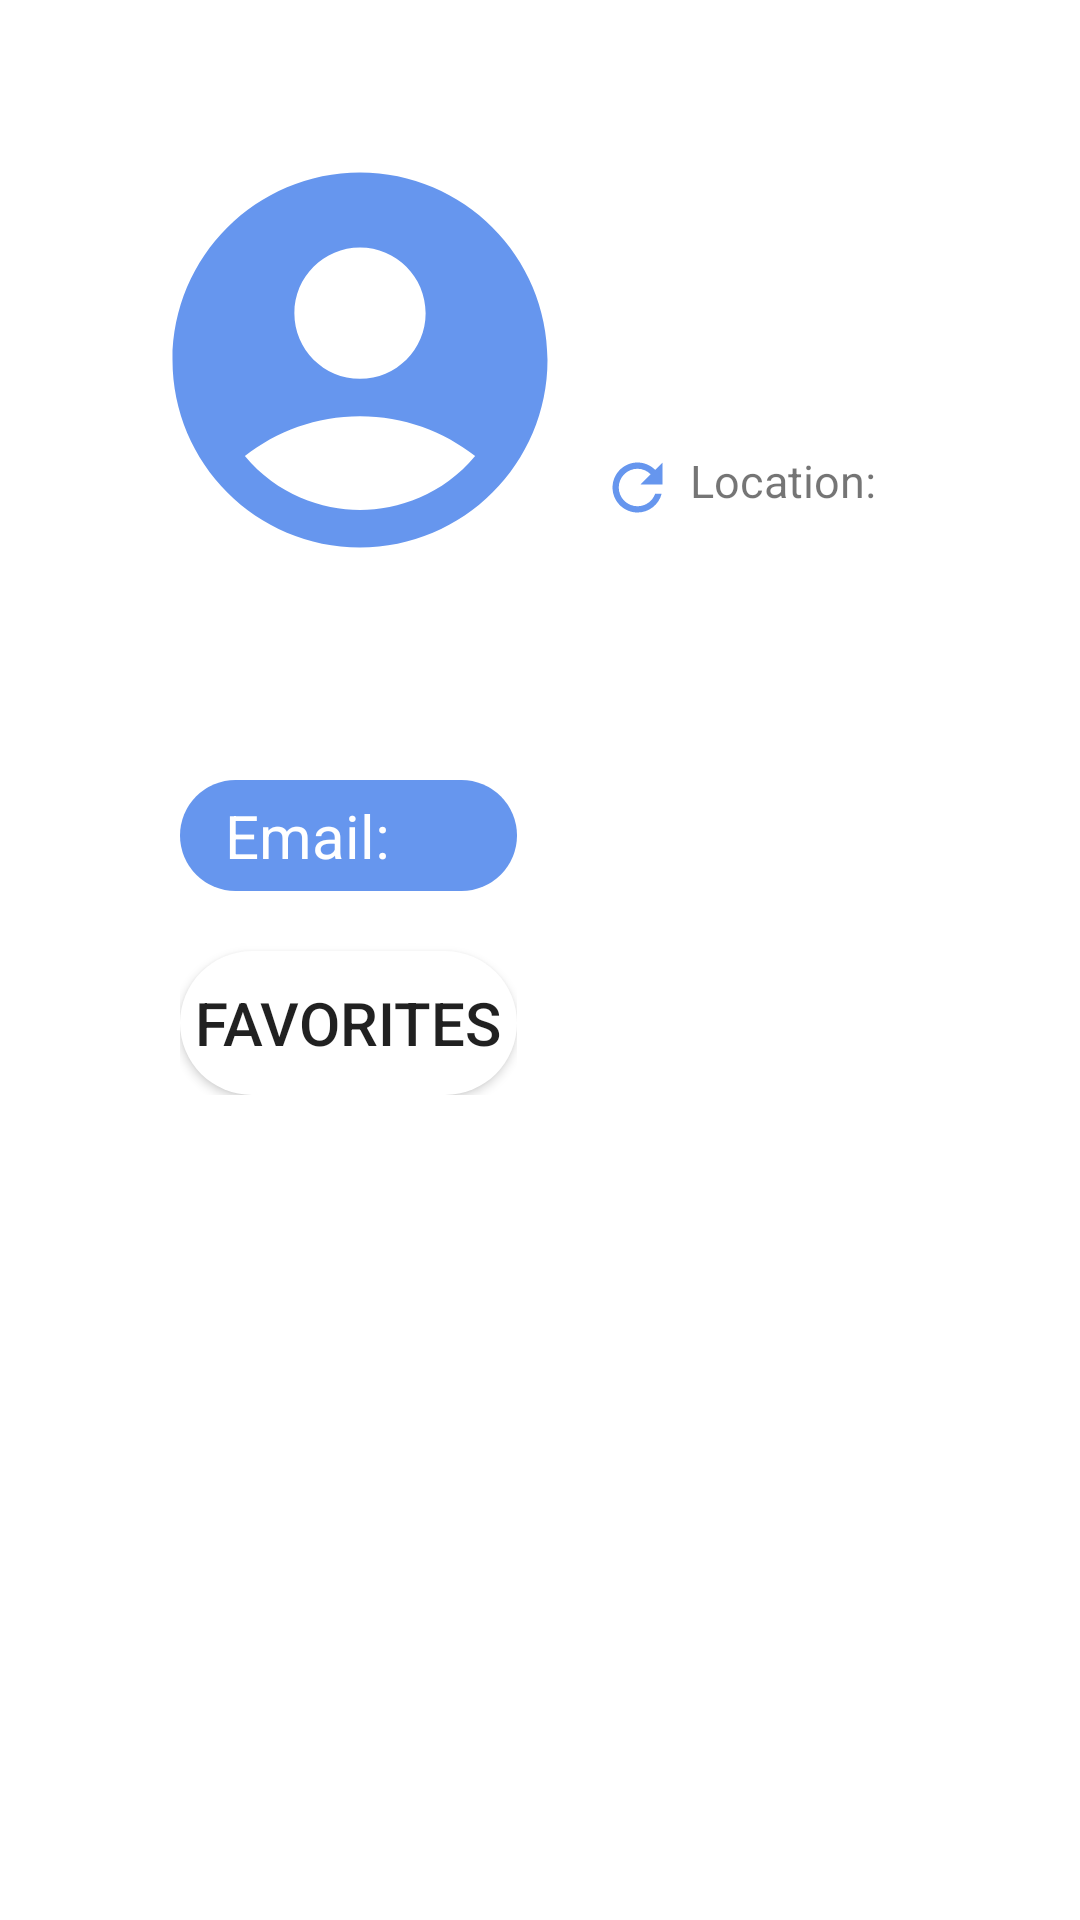

Icon bounding boxes for this 1080×1920 phone screenshot, format (x1, y1, x2, y2):
refresh: (612, 462, 663, 513)
